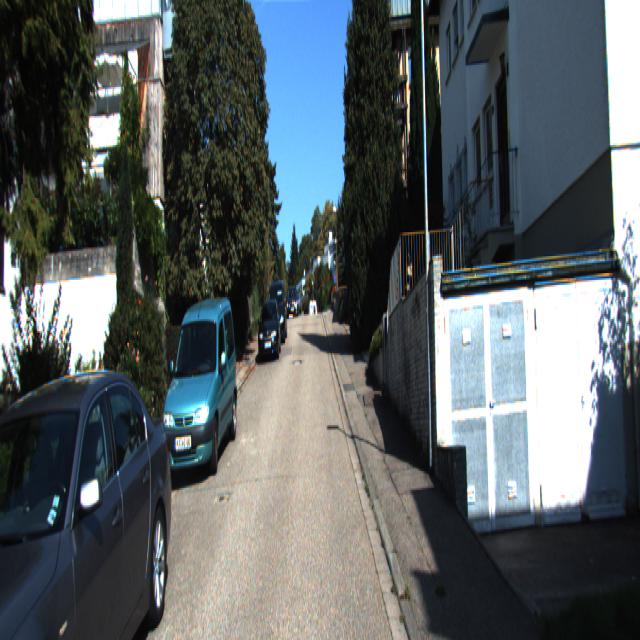Car: (0, 357, 181, 638), (156, 294, 239, 481), (258, 300, 282, 360), (266, 279, 288, 344)
